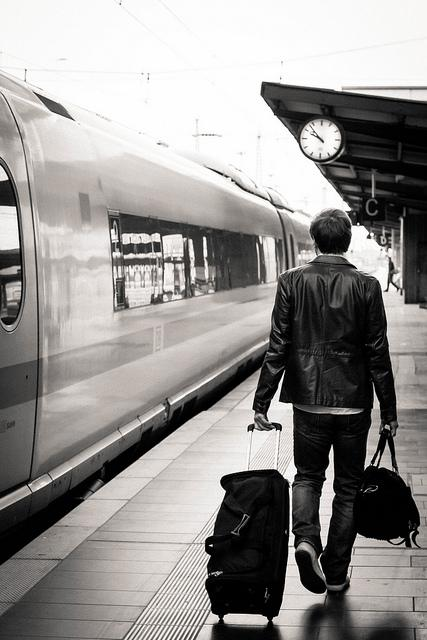Train: (5, 68, 322, 540)
